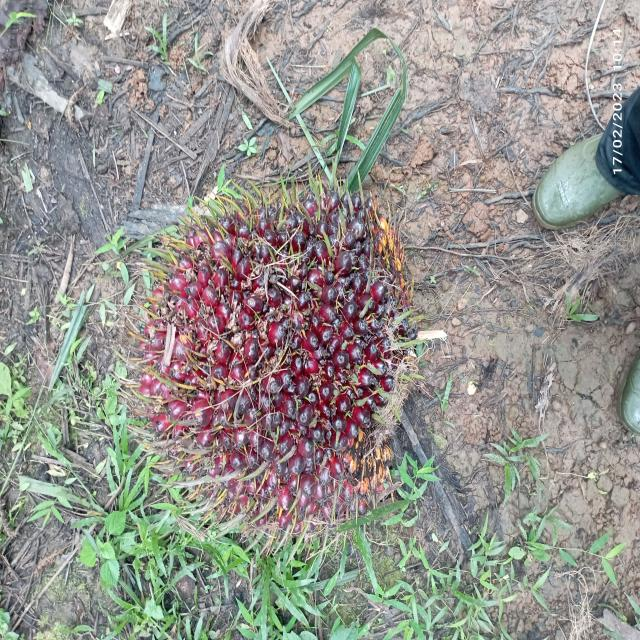fraksi 1: (118, 182, 430, 544)
